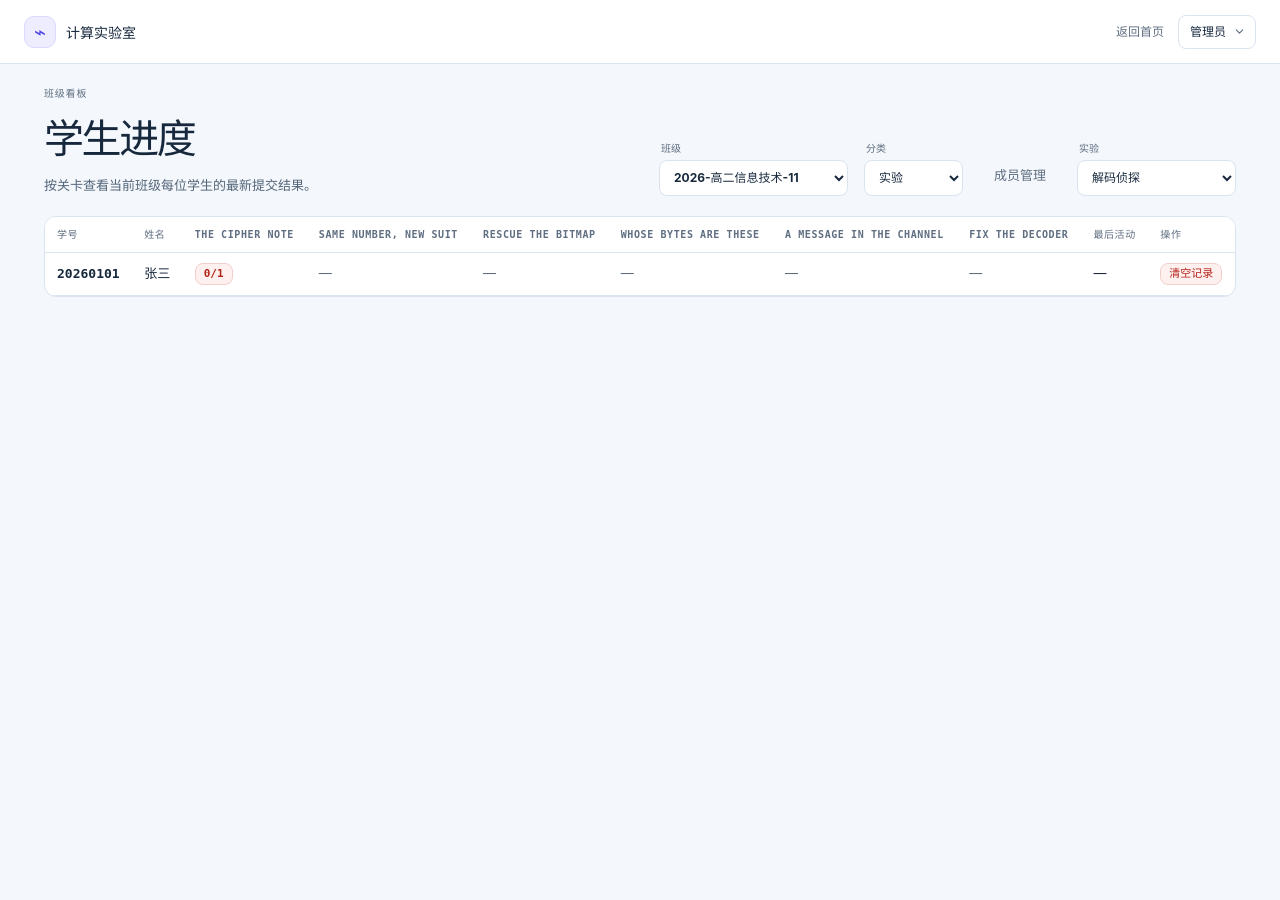
it: TeacherDashboardPage › renders decoding parts in the failure drawer and shows recorded CPU predictions
Click the button "0/1".
click(214, 274)  # box [195,262,232,285]
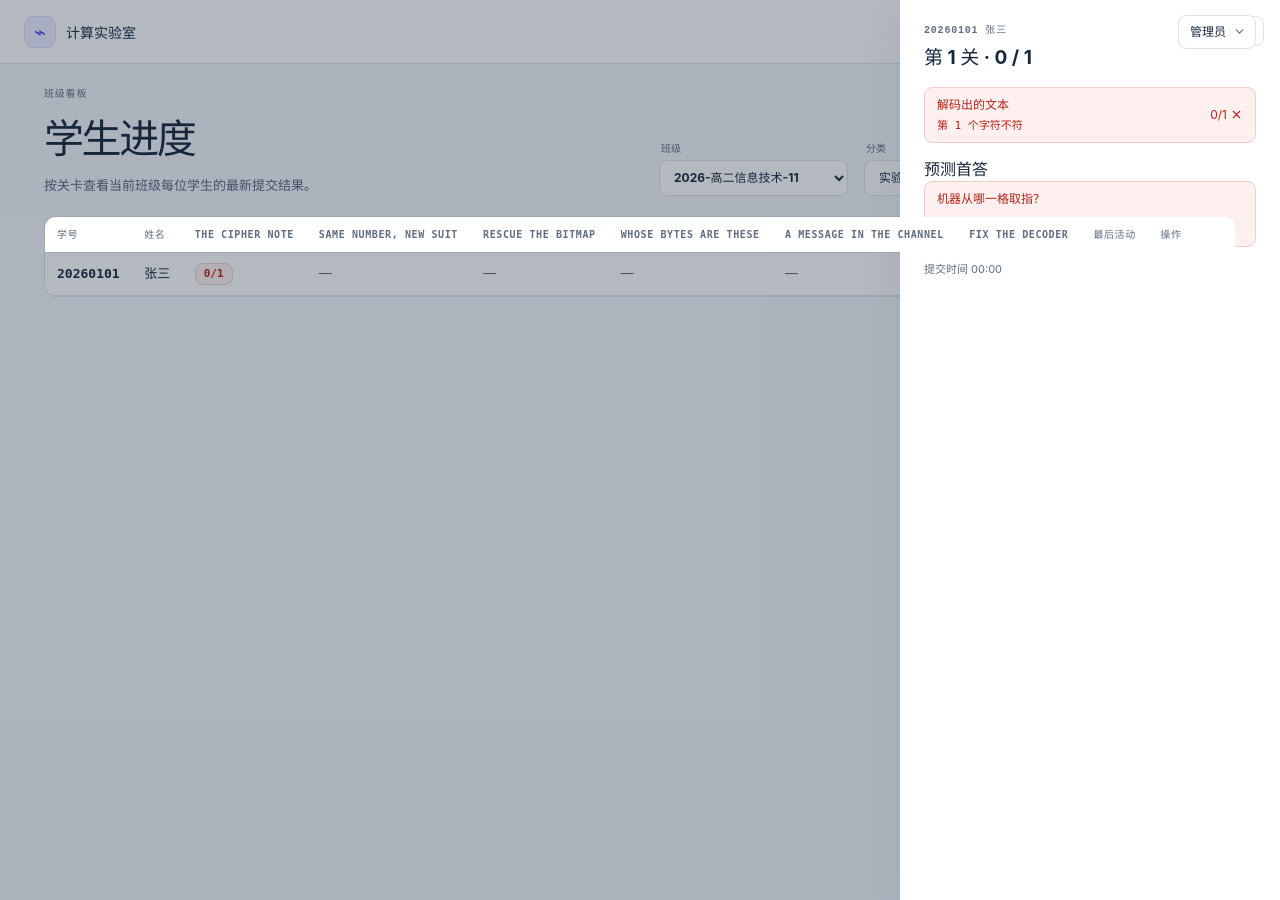
Expected: the element "预测首答" shows "第 14 格", [973,221,1016,236]
Now the text "解码出的文本" is shown, box [937,98,1009,112]
Now the text "第 1 个字符不符" is shown, box [937,118,1023,134]
